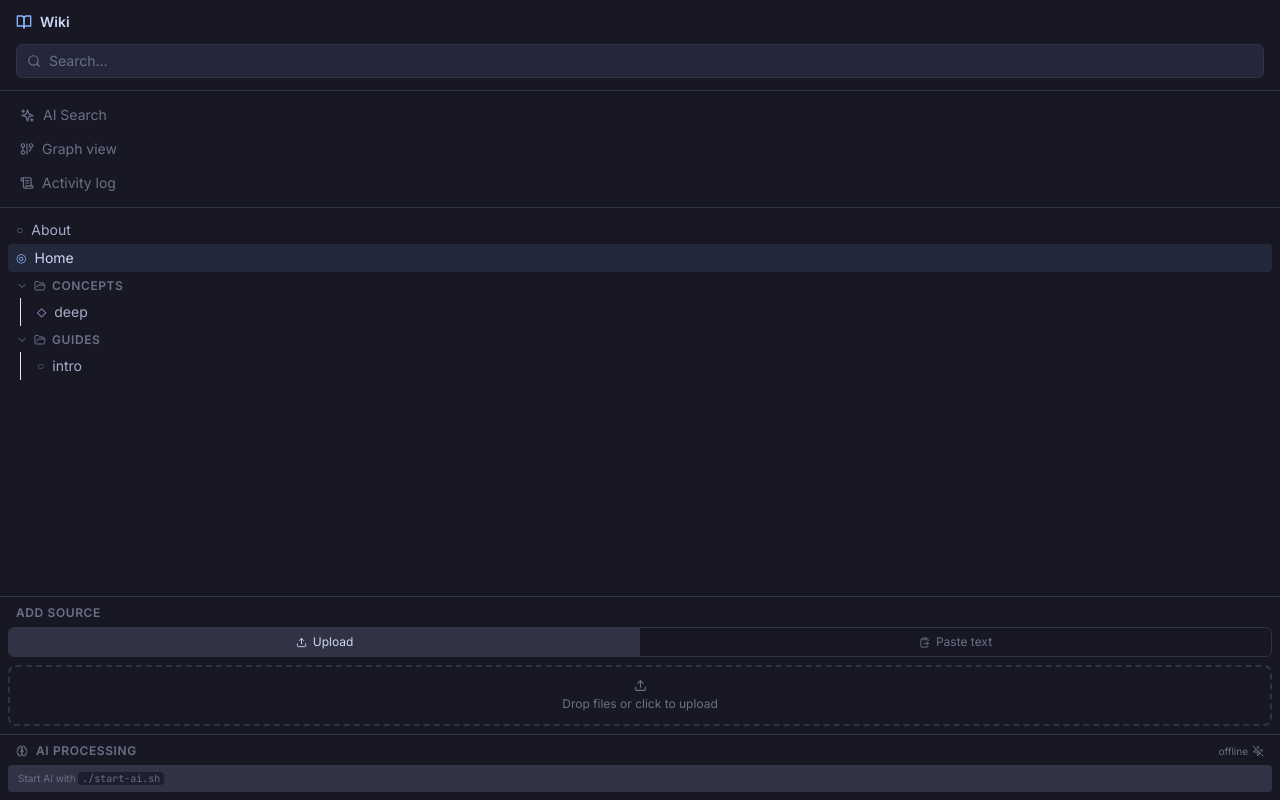
Test: IngestSection › submits paste text and shows success
Click the button "Paste text" at (956,642), box [640,628,1271,656]
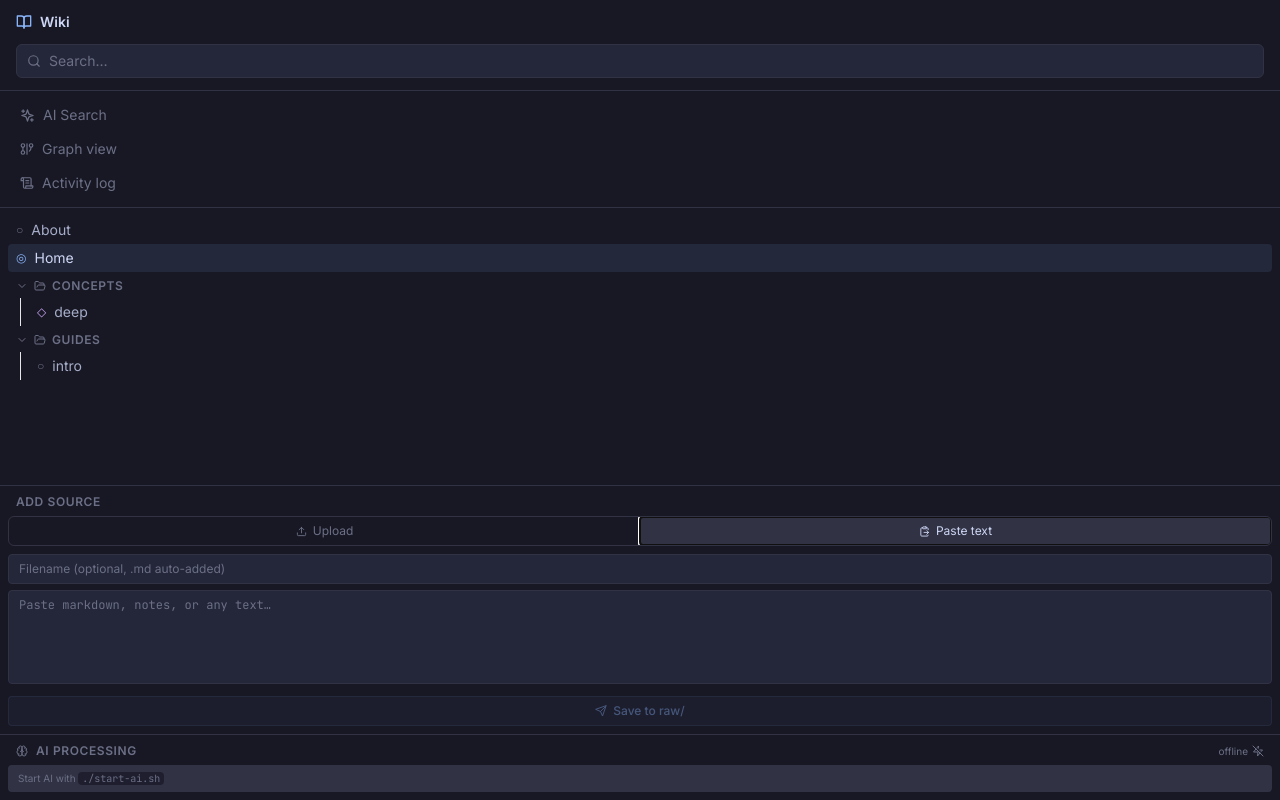
Type "my-note" into the field with placeholder "Filename (optional, .md auto-added)" at (640,569), box [8,554,1272,584]
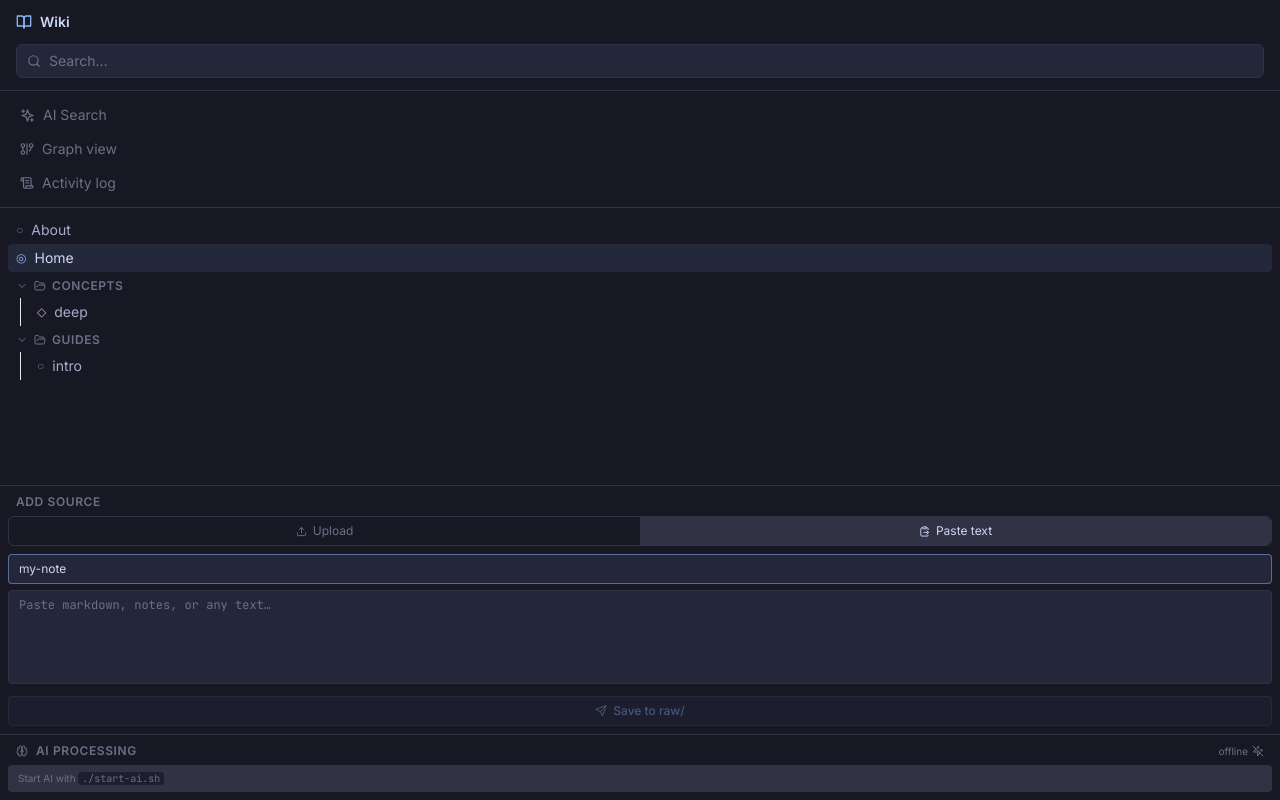
Type "My notes content" into the text box with placeholder "Paste markdown, notes, or any text…" at (640,637), box [8,590,1272,684]
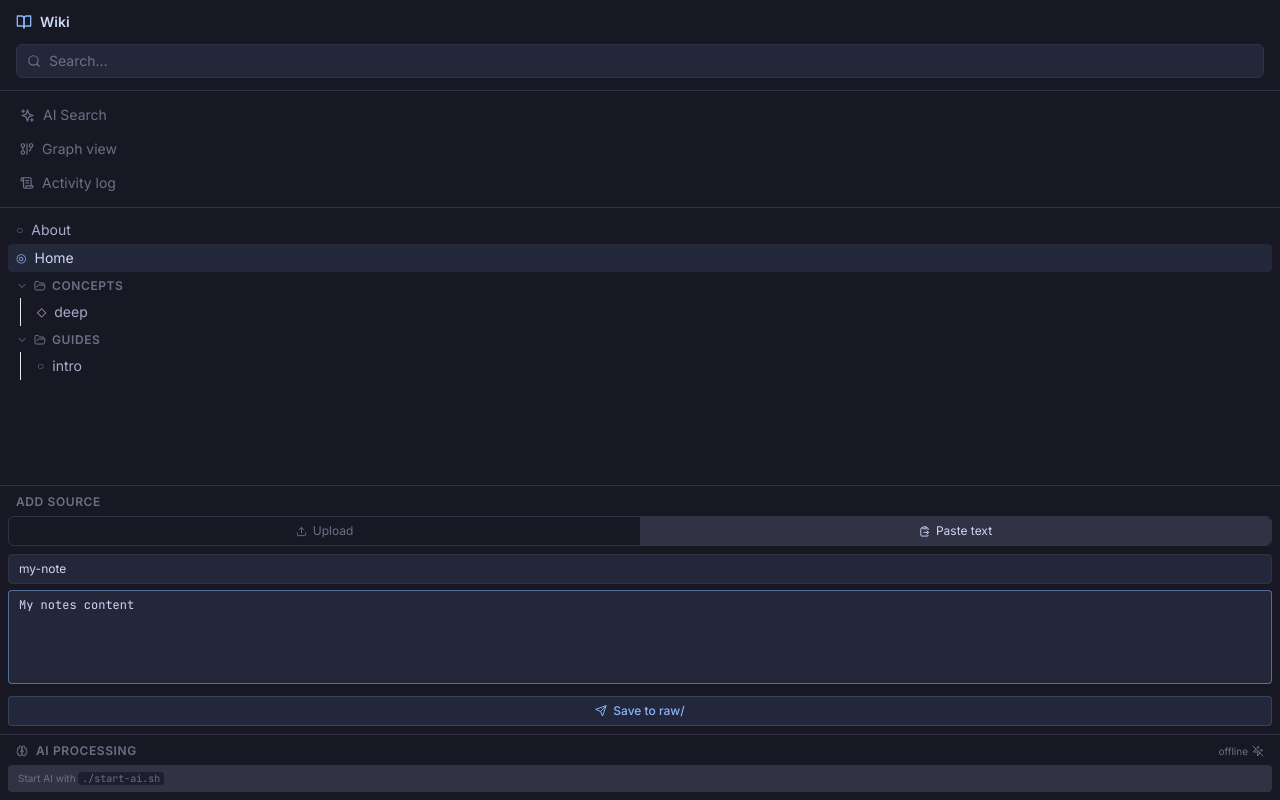
Click the button "Save to raw/" at (640,711), box [8,696,1272,726]
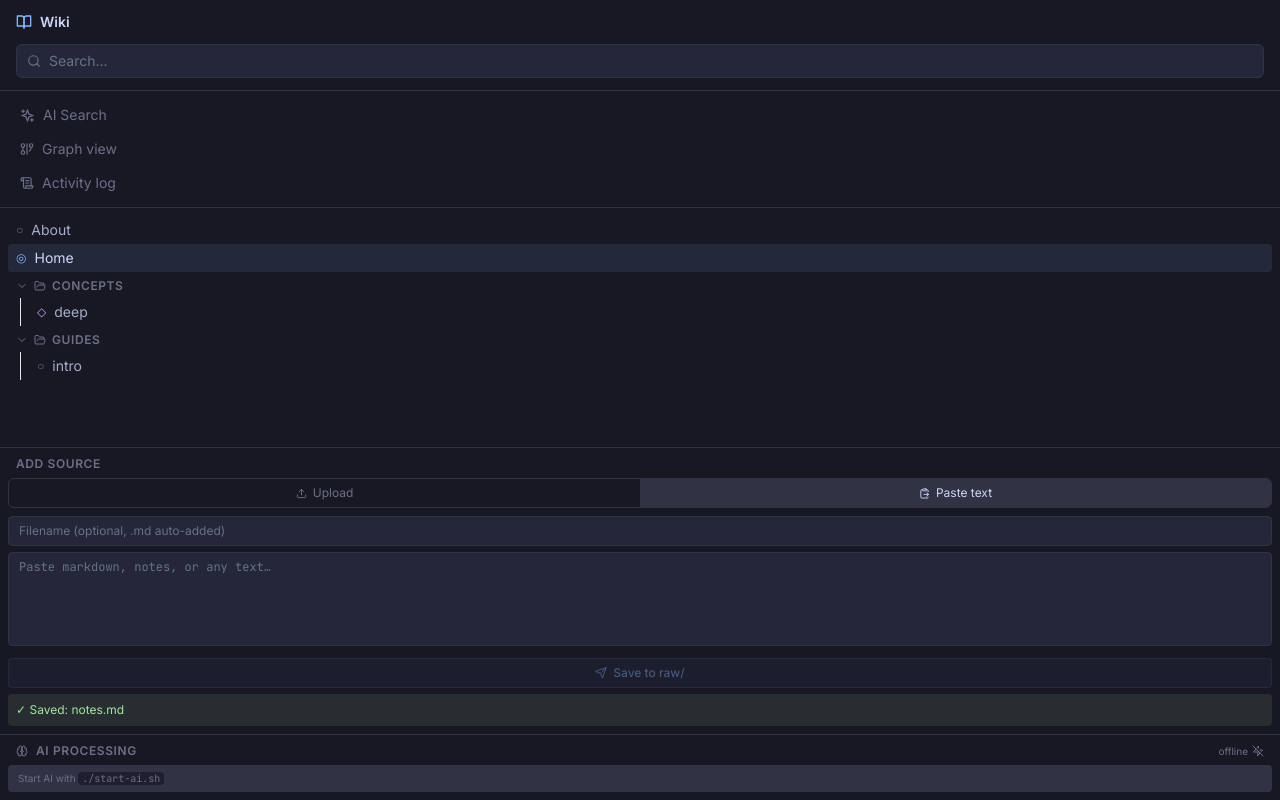
expect the text "✓ Saved: notes.md" is shown: met, box [8,694,1272,726]
